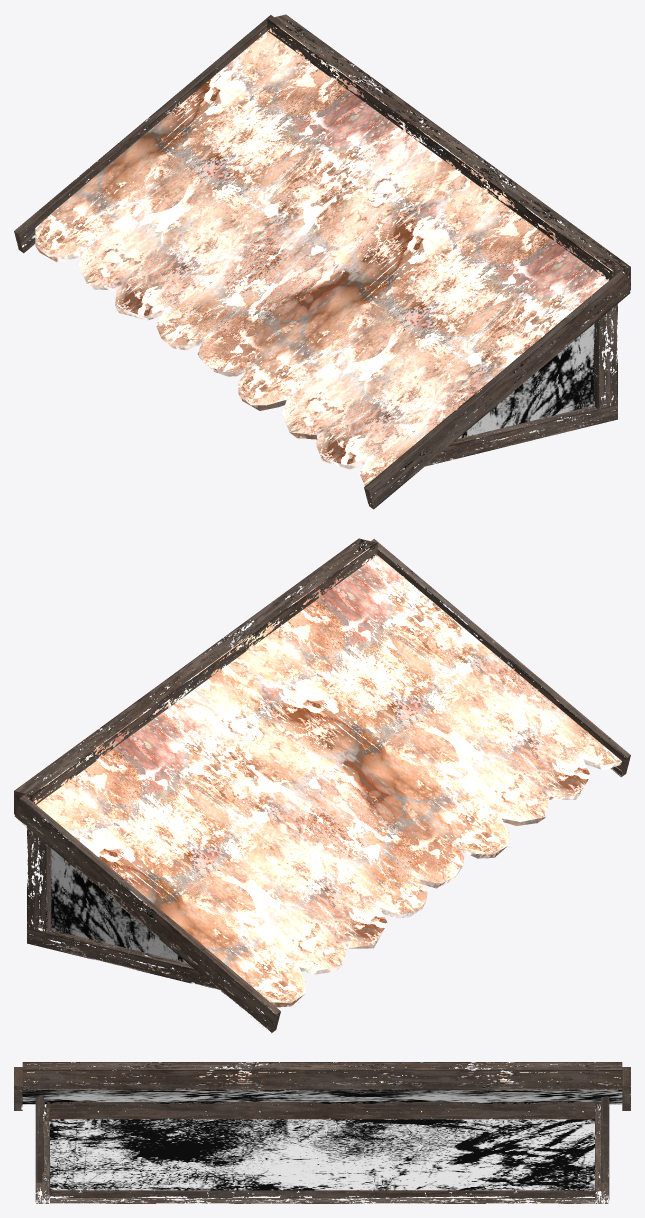
The model's file is SM_porch_roof_02.fbx.
3 views of the same model, one above another, from view 1: azimuth 30°, elevation 25°; view 2: azimuth 150°, elevation 25°; view 3: azimuth 270°, elevation 25° (orthographic). The views are drawn at different scales.
Visible parts, largest first — view 1: SM_porch_roof_02_LOD0; view 2: SM_porch_roof_02_LOD0; view 3: SM_porch_roof_02_LOD0.
Part boxes in pixels (x1,y1,x2,y2): SM_porch_roof_02_LOD0: (14,14,630,509); SM_porch_roof_02_LOD0: (14,538,630,1033); SM_porch_roof_02_LOD0: (14,1062,630,1203).
Bounding box in the file's own units: 95.78 × 220 × 59.98.
3 materials, 3 textured.
